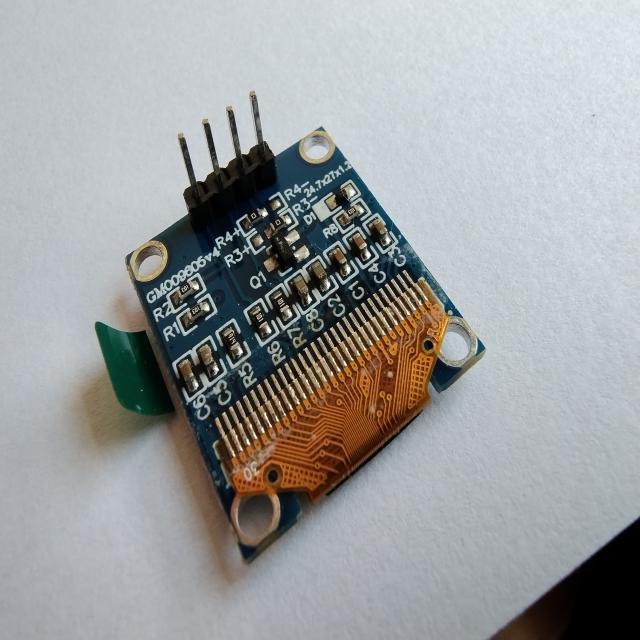oled: (91, 74, 498, 571)
